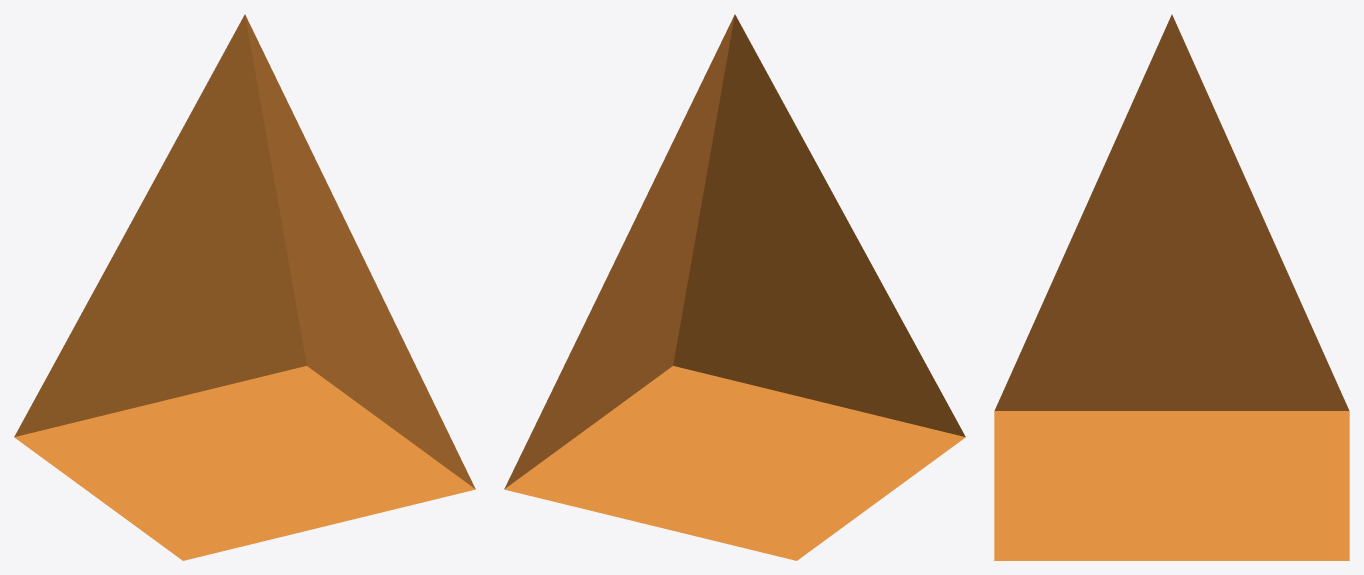
3 renders of one model, left to right at view 1: azimuth 30°, elevation 25°; view 2: azimuth 150°, elevation 25°; view 3: azimuth 270°, elevation 25°, orthographic. The views are drawn at different scales.
Parts seen in each view (by area): view 1: pyramid; view 2: pyramid; view 3: pyramid.
Part boxes in pixels (left/top/right/bottom): pyramid: left=14, top=14, right=475, bottom=560; pyramid: left=504, top=14, right=965, bottom=560; pyramid: left=994, top=14, right=1349, bottom=560.
Bounding box in the file's own units: 1.5 × 2.2 × 1.5.
